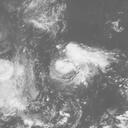cyclone: (1, 62, 31, 116), (49, 59, 78, 80)
